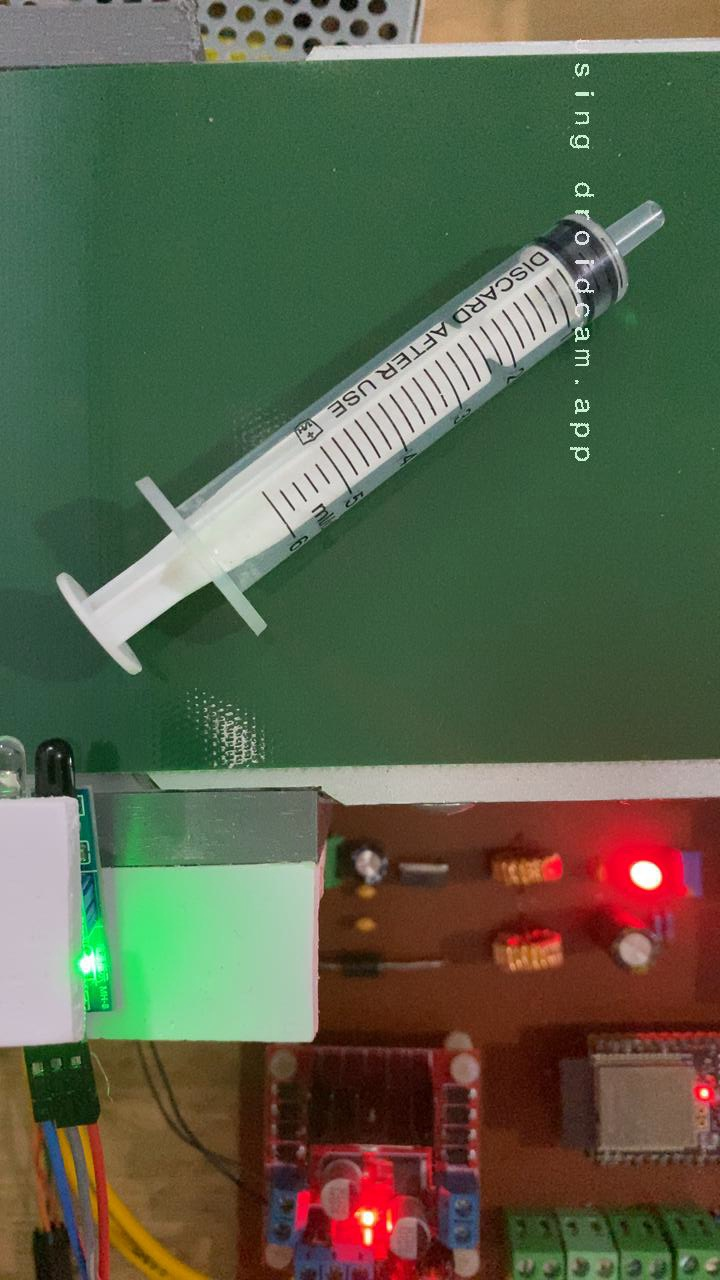syringe: (49, 201, 670, 679)
